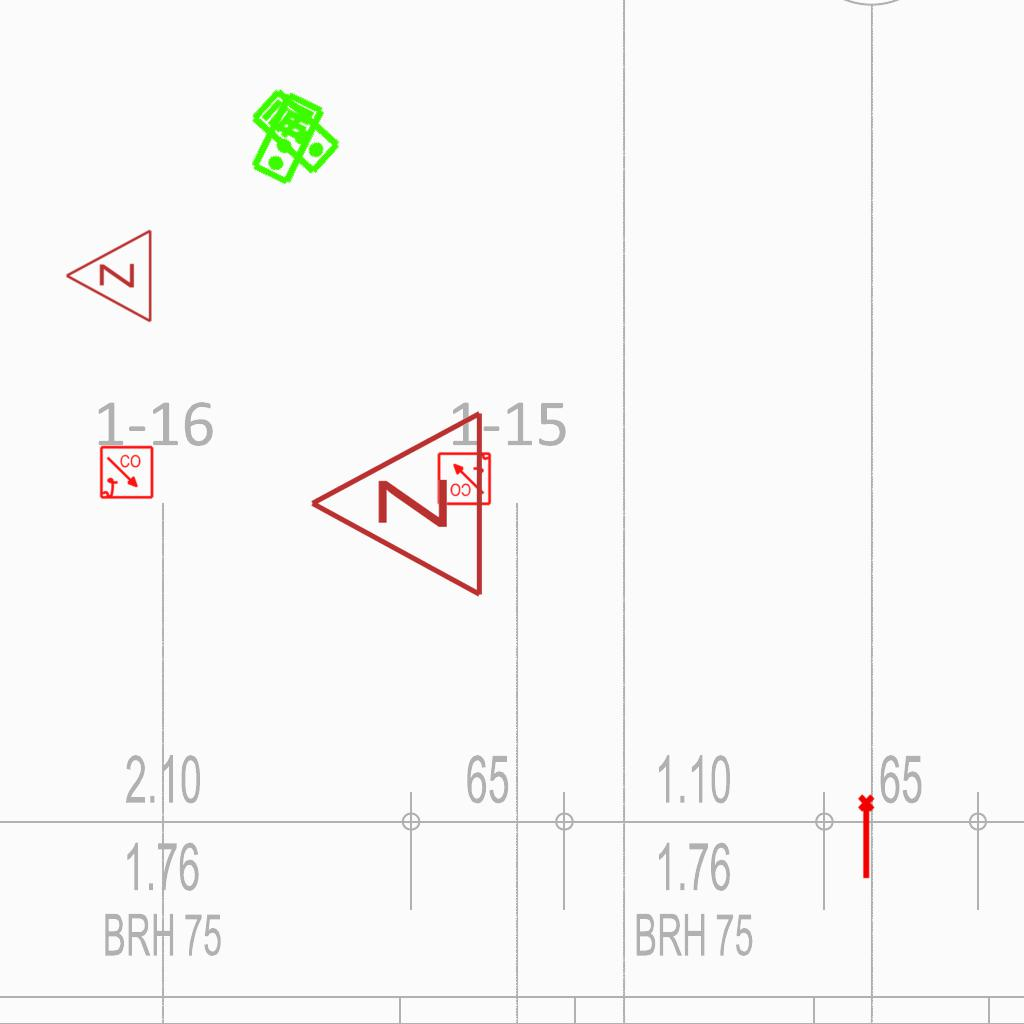ASR_Ansaugoeffnung: (856, 793, 879, 881)
Gegensprechanlage_mit_Video: (248, 84, 345, 178), (248, 89, 329, 189)
ROA_Rauchmelder_optisch_mit_Signalgeber_(Sockelsirene): (436, 450, 492, 506), (99, 445, 155, 501)
Zimmersignalleuchte: (297, 408, 497, 604), (59, 228, 159, 326)
